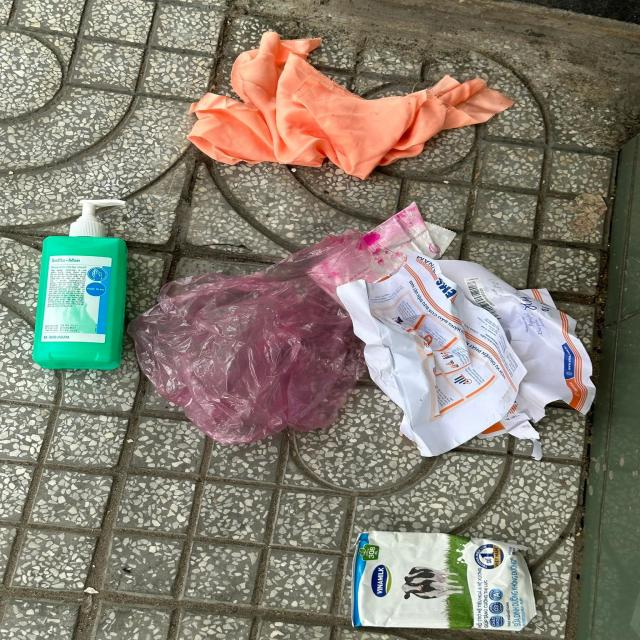bag: (127, 230, 367, 447)
bottle: (31, 198, 130, 370)
clothes: (187, 31, 518, 180)
packet: (350, 530, 540, 631)
paper: (337, 247, 597, 461)
